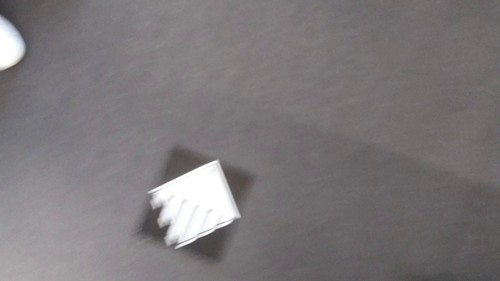misgoods: (143, 158, 250, 251)
